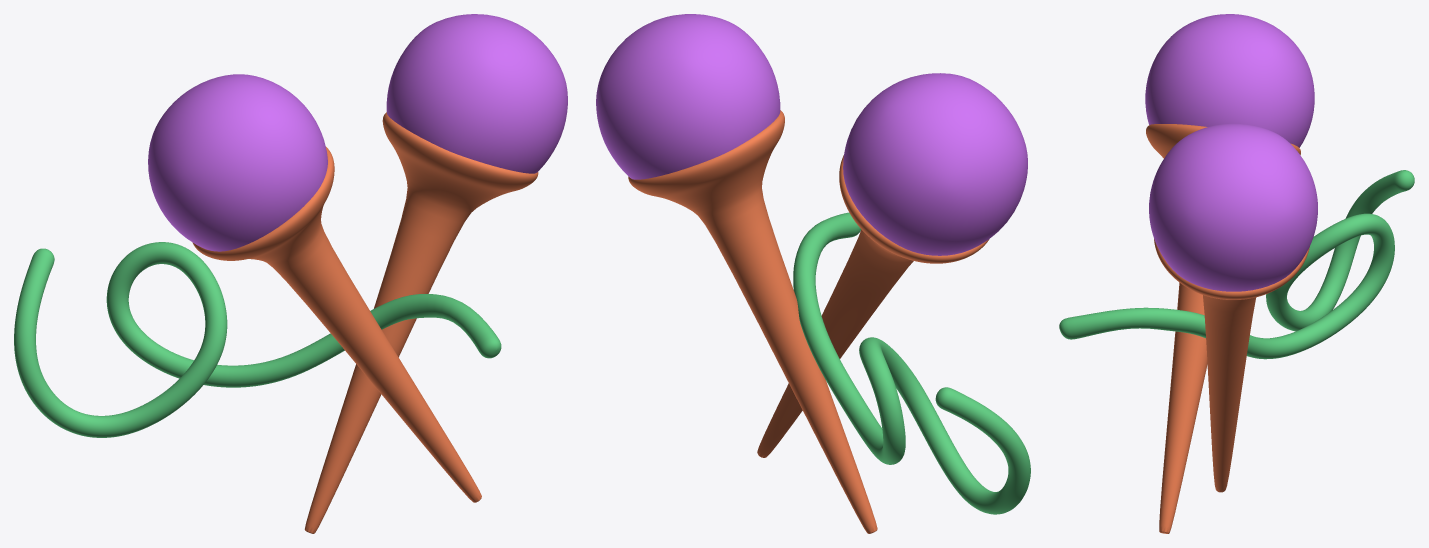
The model's file is 6. Knitting Needles.glb.
3 renders of one model, left to right at view 1: azimuth 30°, elevation 25°; view 2: azimuth 150°, elevation 25°; view 3: azimuth 270°, elevation 25°, orthographic. The views are drawn at different scales.
Visible parts, largest first — view 1: Cube, Cube.001, Spiral, Needles.001, Needles; view 2: Cube, Cube.001, Needles.001, Spiral, Needles; view 3: Cube.001, Cube, Spiral, Needles.001, Needles.
Part boxes in pixels (x1,y1,x2,y2): Cube: (148, 74, 327, 251); Cube.001: (386, 14, 567, 173); Spiral: (14, 242, 501, 437); Needles.001: (304, 112, 538, 533); Needles: (192, 146, 481, 502); Cube: (843, 73, 1027, 255); Cube.001: (596, 14, 780, 179); Needles.001: (628, 110, 877, 533); Spiral: (793, 212, 1030, 514); Needles: (757, 155, 989, 457); Cube.001: (1149, 123, 1317, 291); Cube: (1145, 14, 1314, 147); Spiral: (1059, 170, 1414, 359); Needles.001: (1154, 239, 1309, 492); Needles: (1146, 124, 1300, 533).
Bounding box in the file's own units: 0.8177 × 0.7642 × 0.5601.
